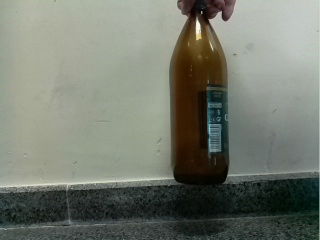pote cristal: (168, 1, 231, 185)
